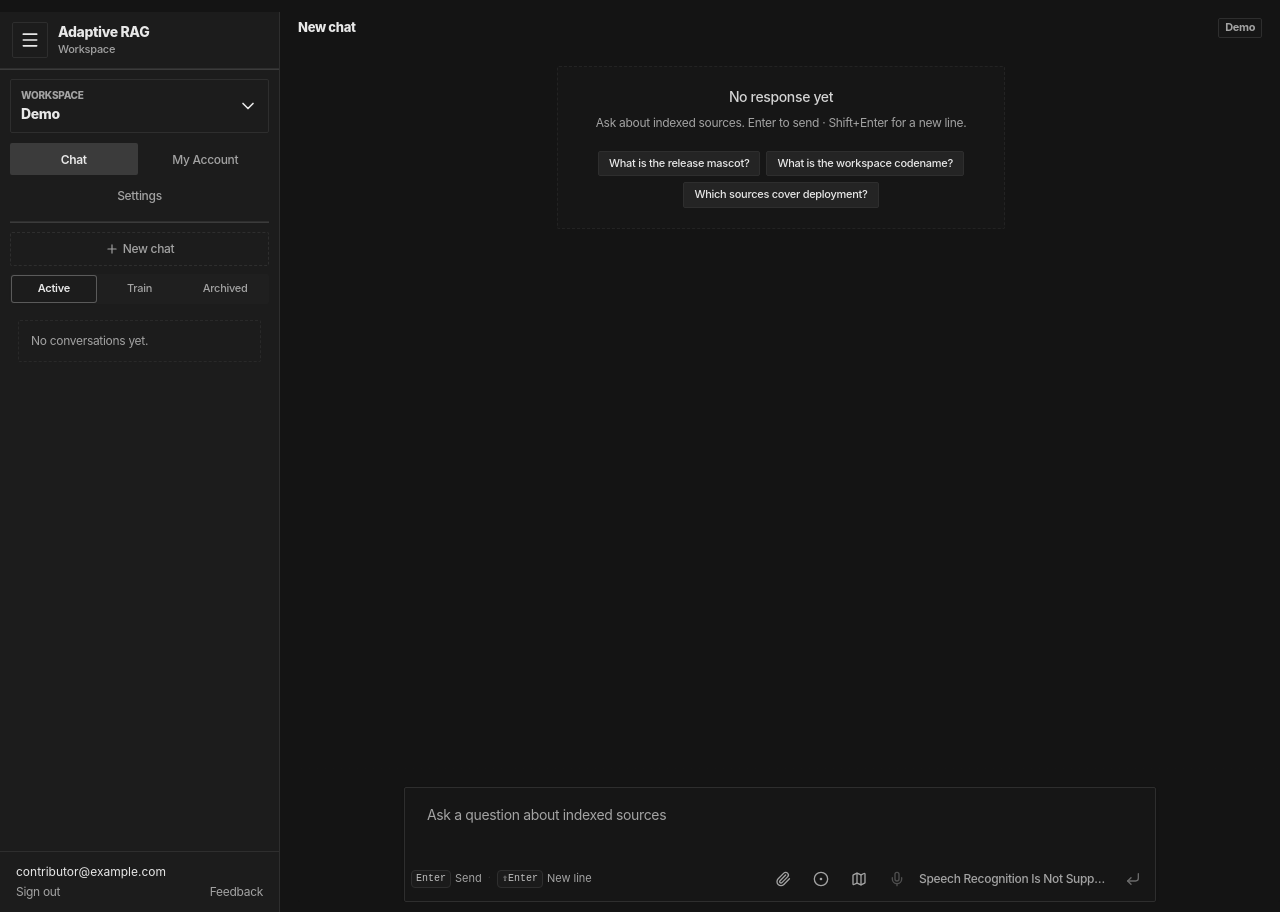
App chat workspace › contributor sees knowledge surfaces but no admin modules
Click the button "Settings" at (140, 195), box [10, 179, 269, 211]
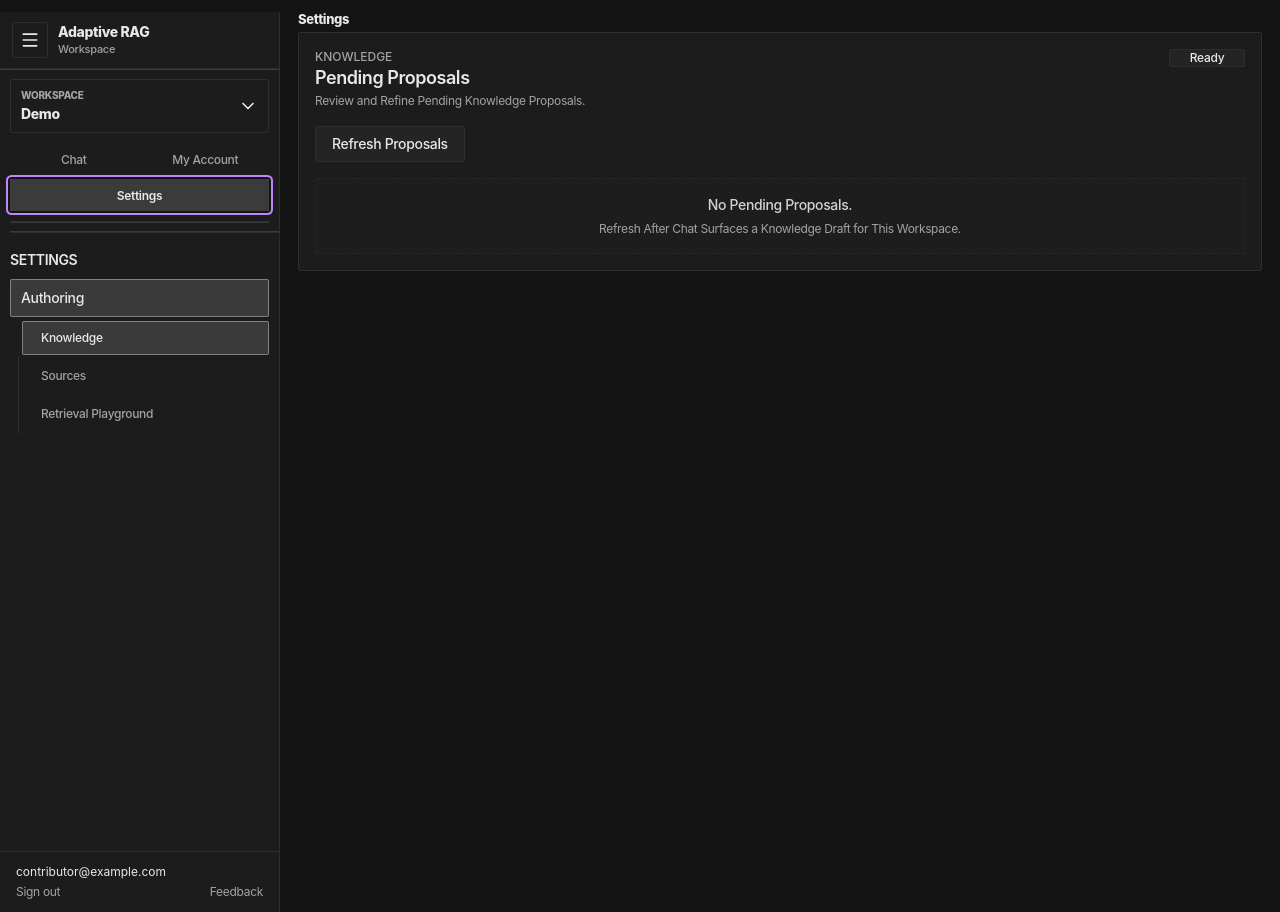
Expected: the button "Sources" is shown, [22, 359, 269, 393]
Expected: the button "Knowledge" is shown, [22, 321, 269, 355]
